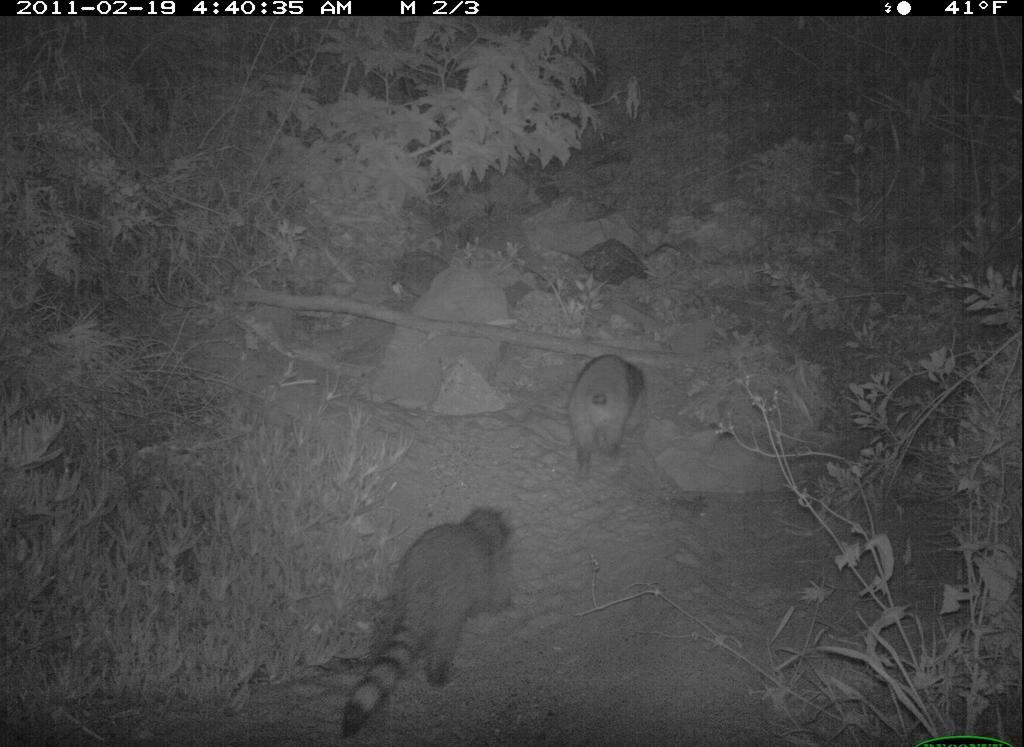raccoon: (324, 495, 526, 745), (560, 342, 660, 495)
